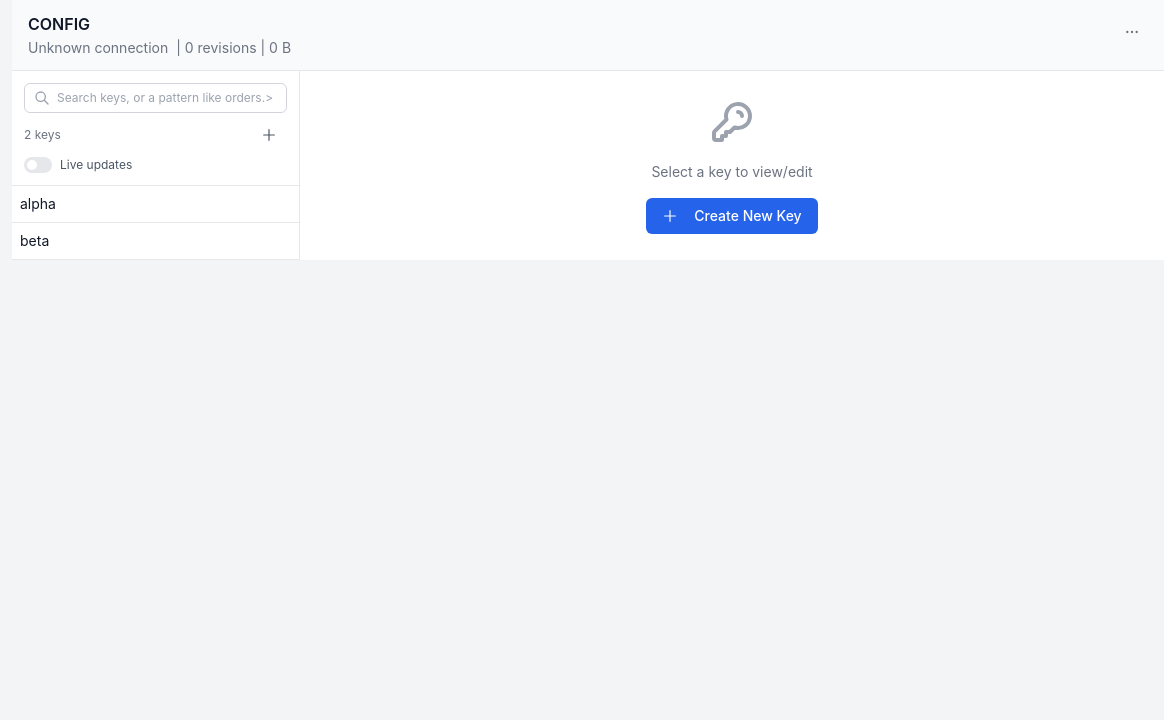
Test: KVStorePage › warns when the TTL is below the bucket marker TTL
Click the button named "New key" at (269, 135), box [251, 121, 287, 149]
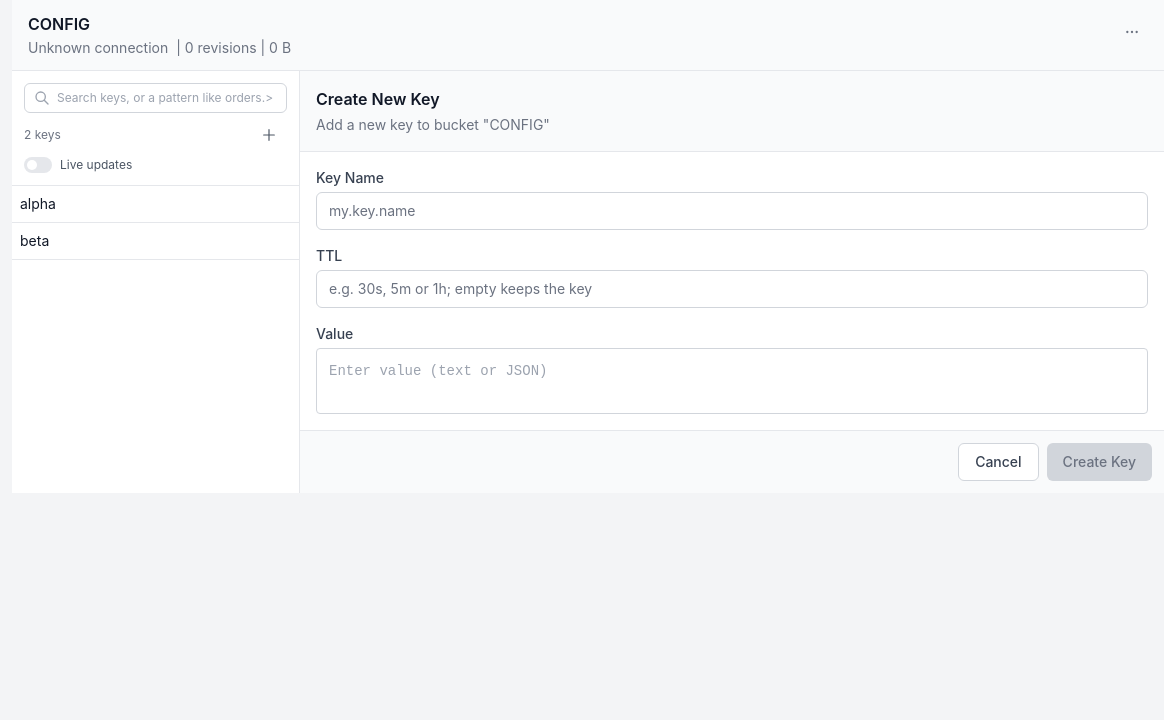
Type "5s" into the field labelled "TTL" at (732, 289), box [316, 270, 1148, 308]
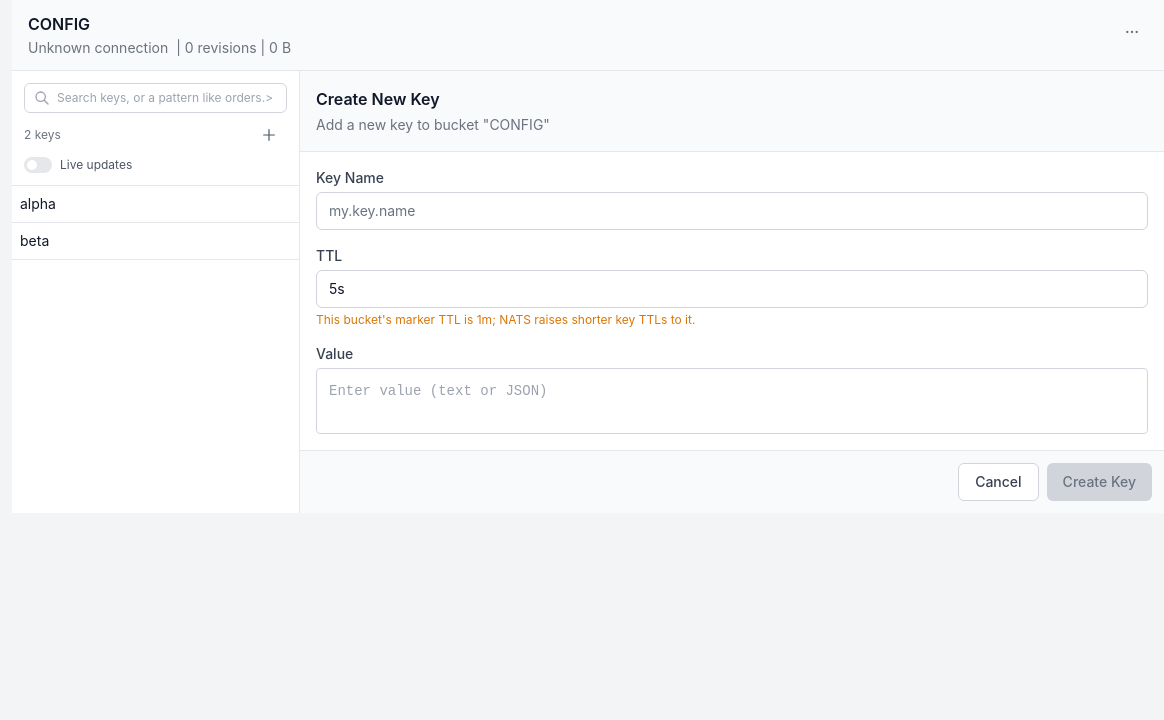
Expected: the text "marker TTL is 1m; NATS raises shorter key TTLs to it" is shown, [316, 312, 695, 327]
Replace the text in the field labelled "TTL" with "5m" at (732, 289), box [316, 270, 1148, 308]
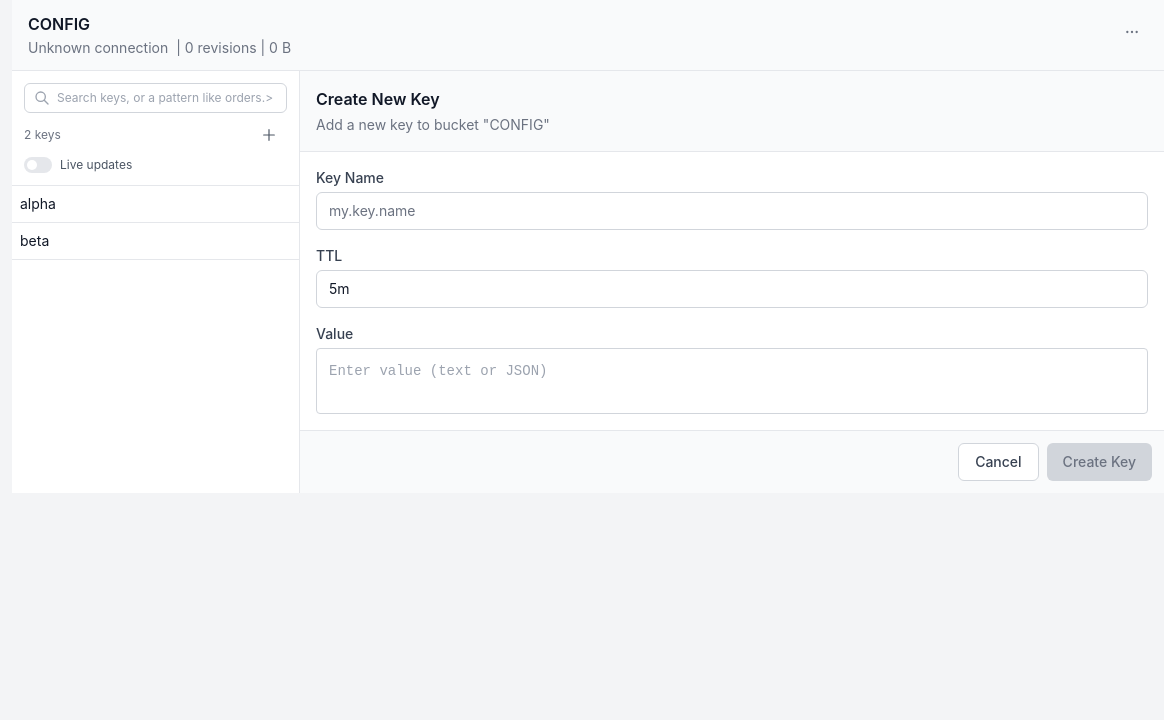
Expected: the text "marker TTL is" is gone
